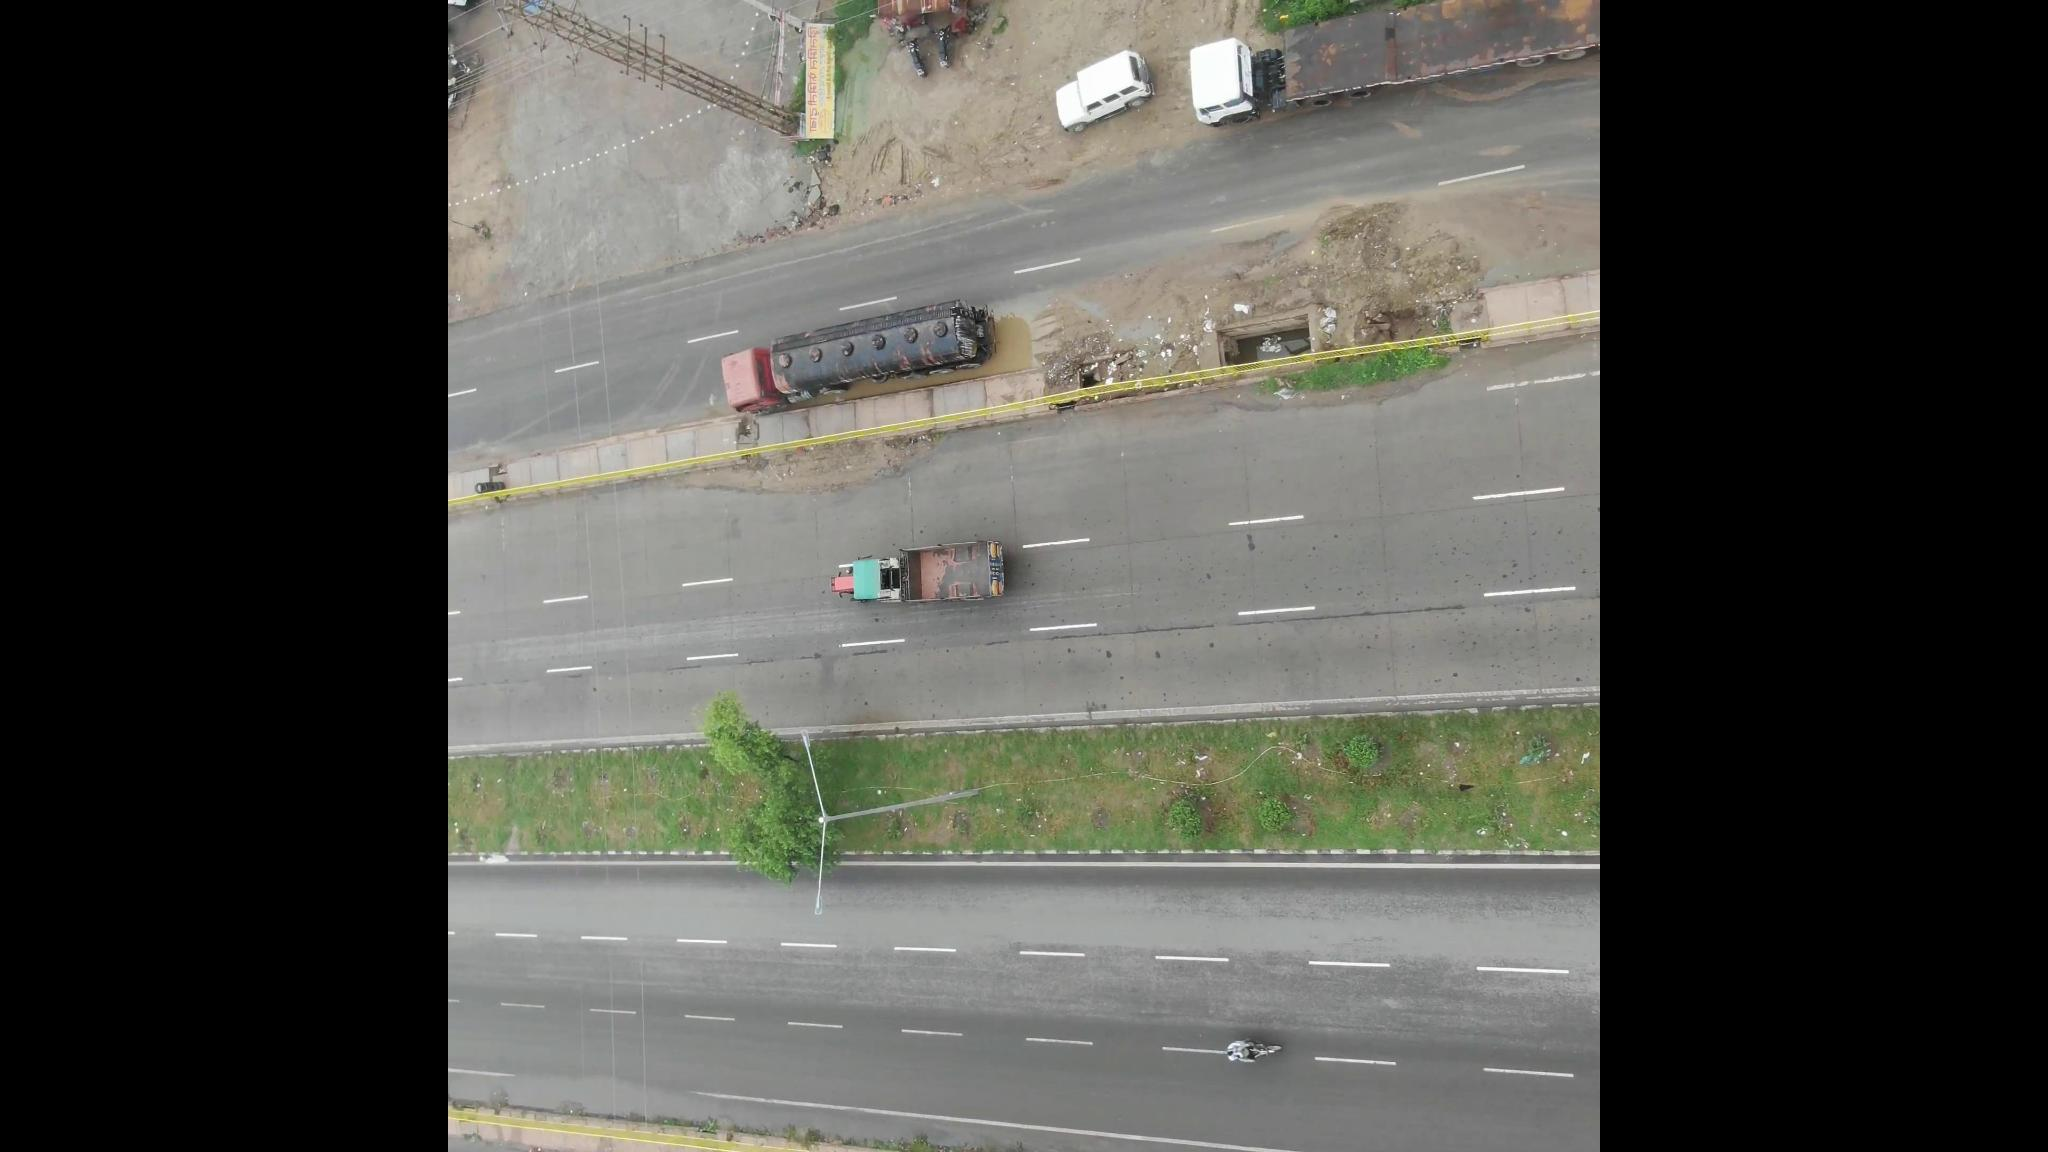Muddy_road: (1248, 197, 1473, 301)
